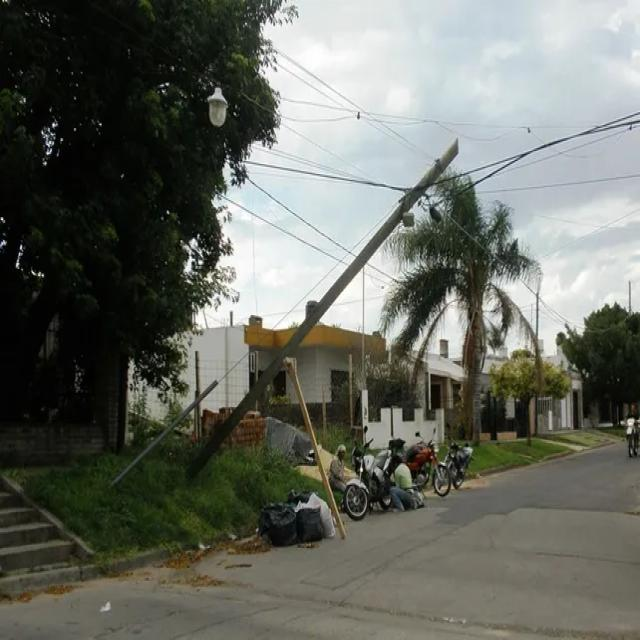Inclined Pole: (181, 132, 467, 539)
